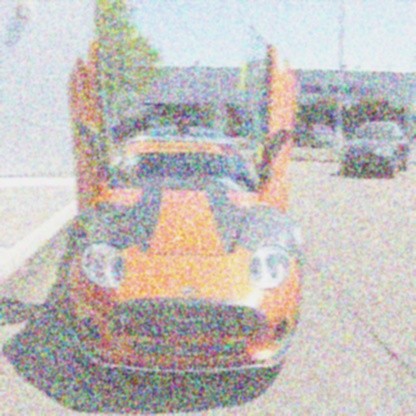Vehicle: (63, 22, 309, 380)
